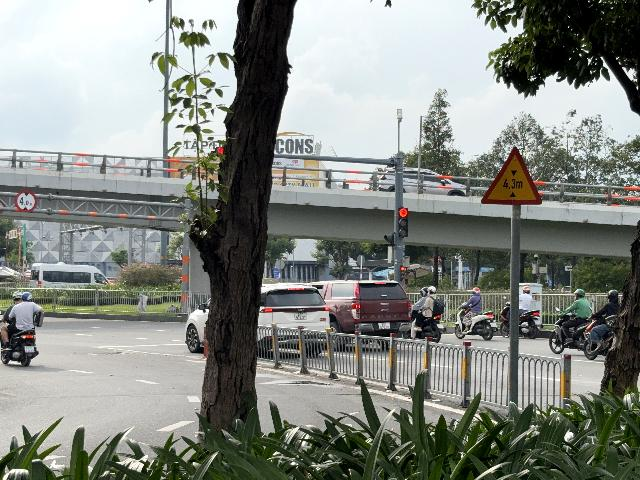chieu-cao-tinh-khong-thuc-te: (481, 147, 542, 205)
